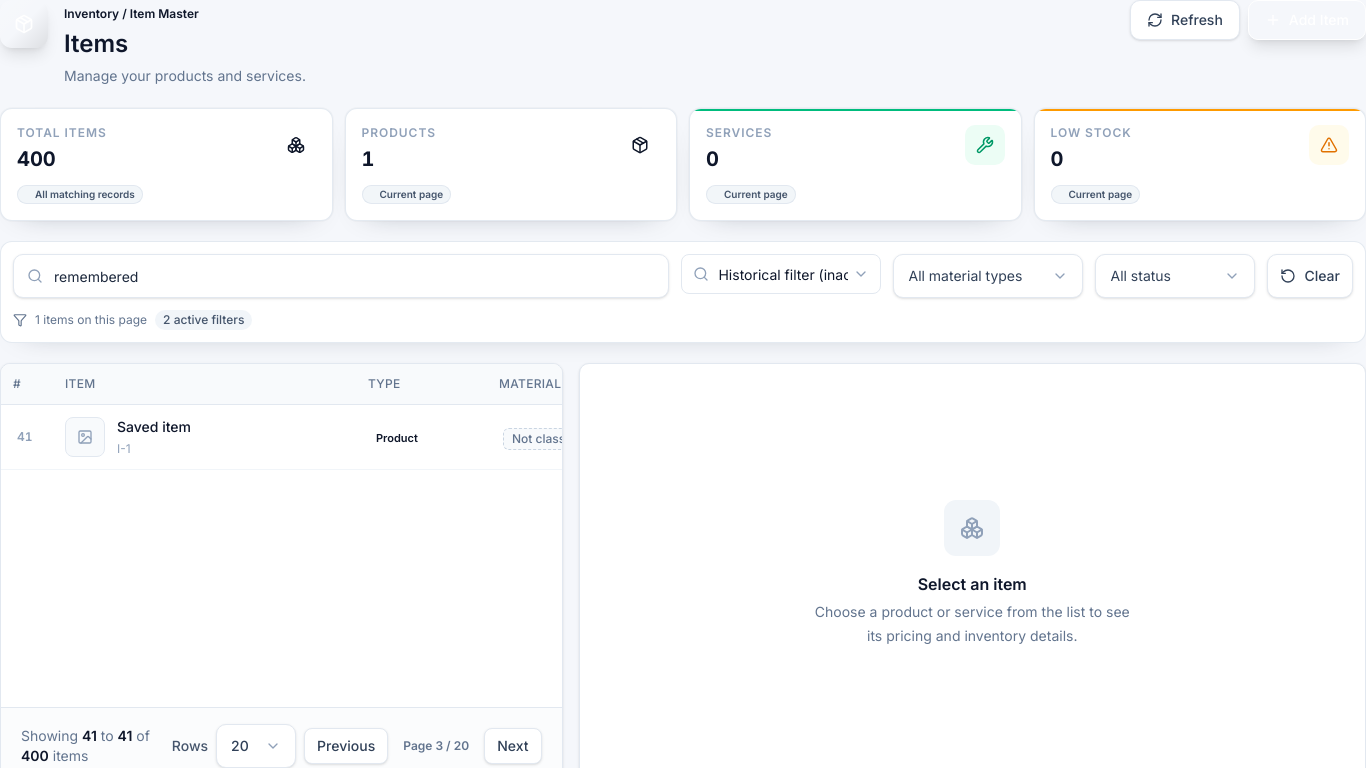
Test: Commerce list filter and return integration › items selects a canonical inline-created filter without first-page reload dependence
Focus the dropdown named "Filter items by category" at (782, 274), box left=682, top=254, right=882, bottom=294
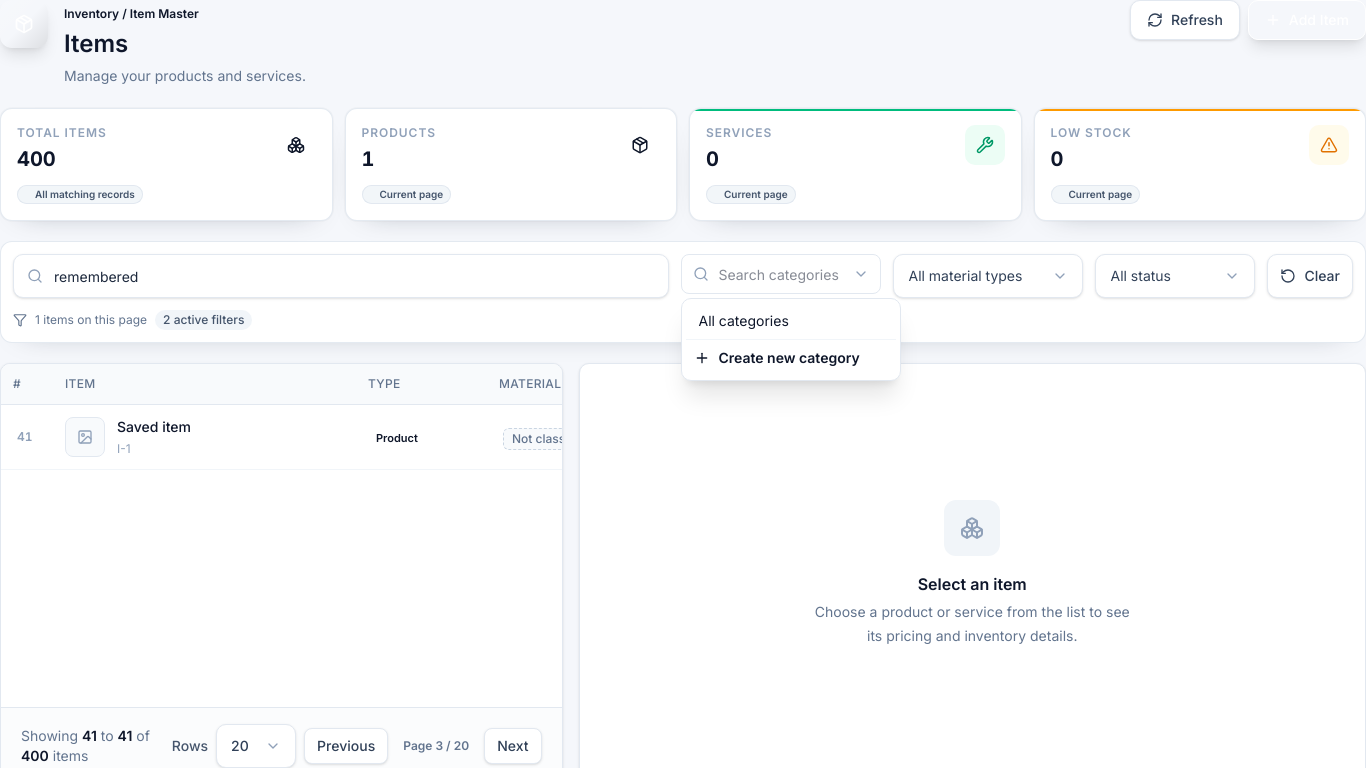
Click the button "Create new category" at (792, 358), box left=686, top=339, right=896, bottom=376
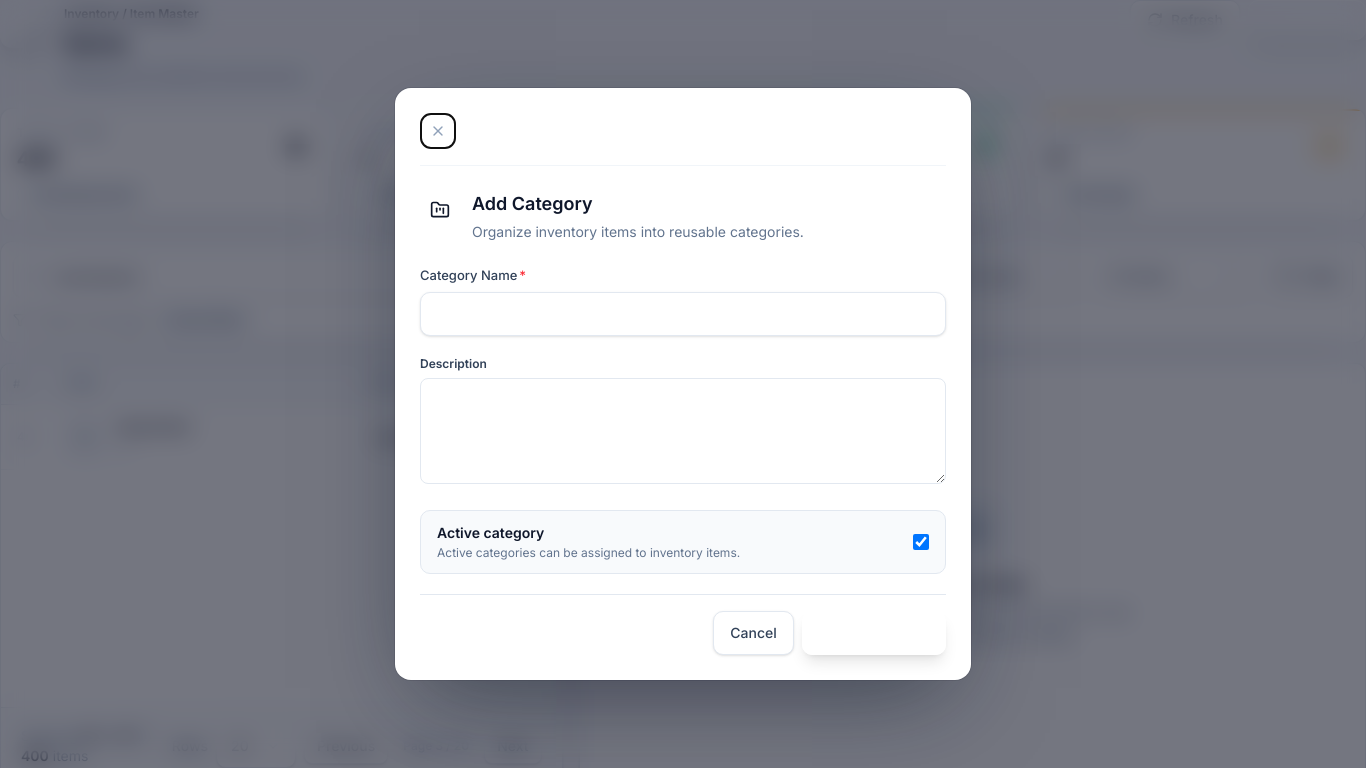
Type "New canonical category" into the field labelled "Category Name*" at (683, 314), box left=420, top=292, right=946, bottom=336
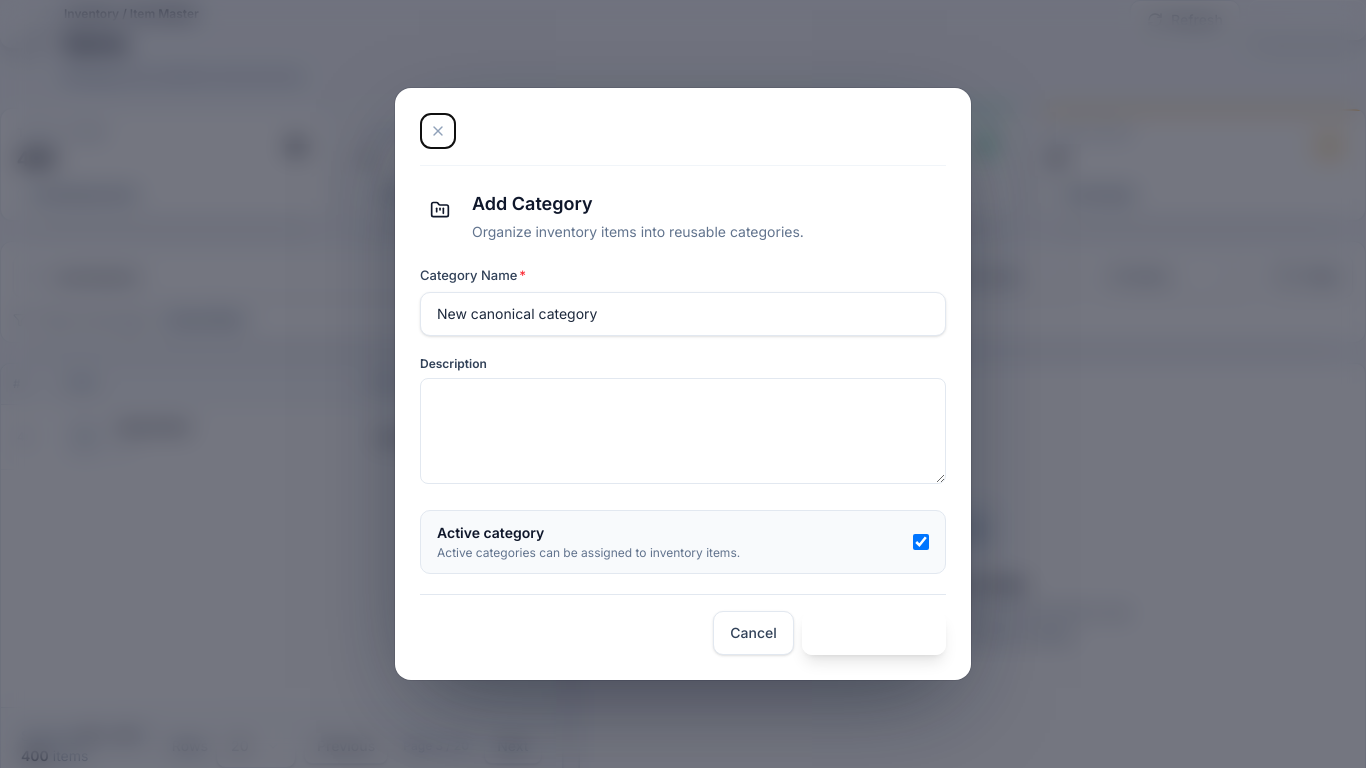
Click the button "Create Category" at (874, 633), box left=802, top=611, right=946, bottom=655
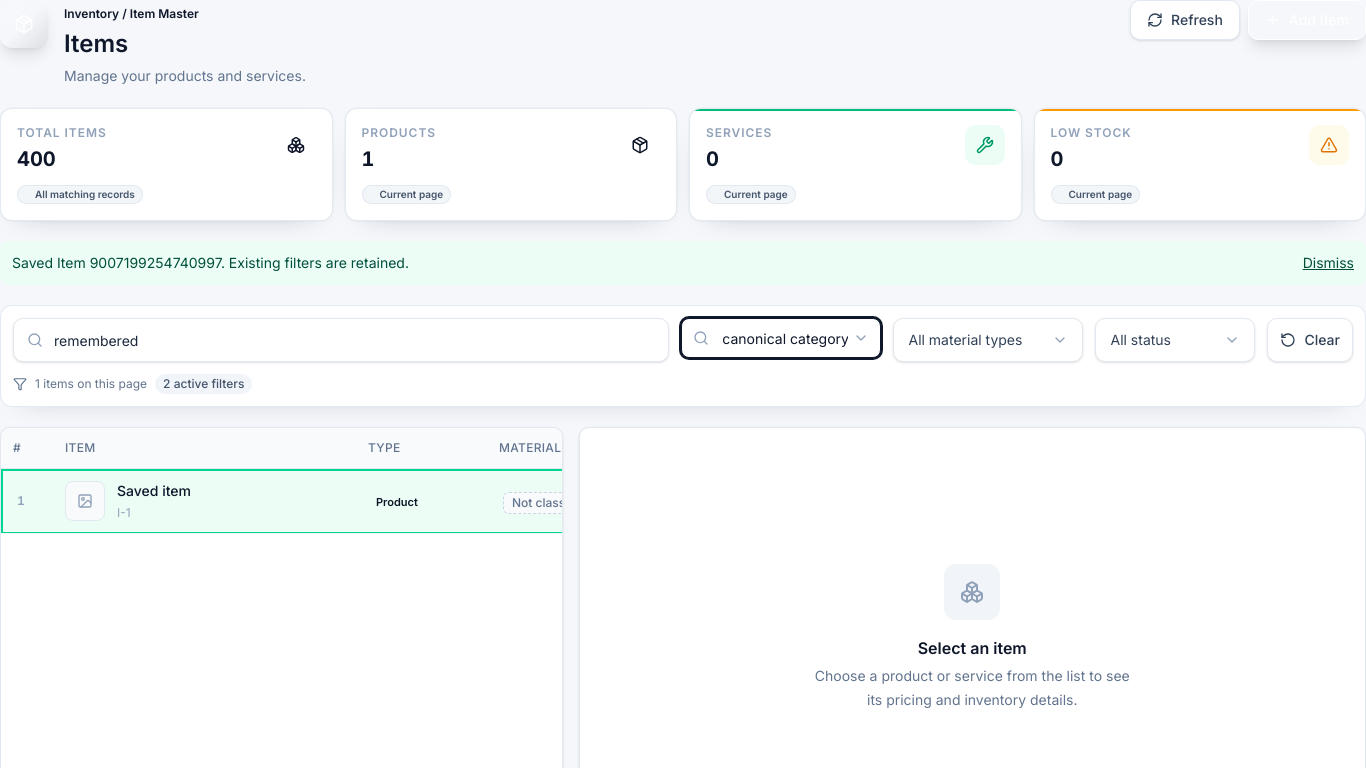
Expected: the dropdown named "Filter items by category" is collapsed, left=682, top=318, right=882, bottom=358
Expected: the dropdown named "Filter items by category" holds "New canonical category", left=682, top=318, right=882, bottom=358
